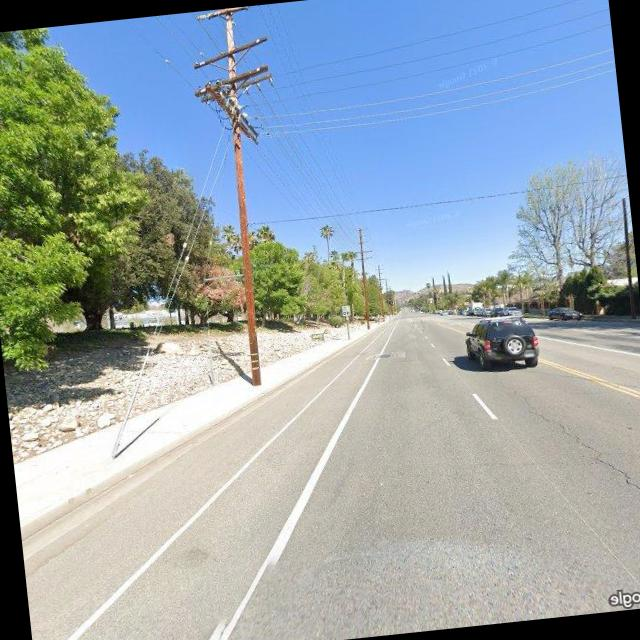pothole: (503, 367, 640, 506)
